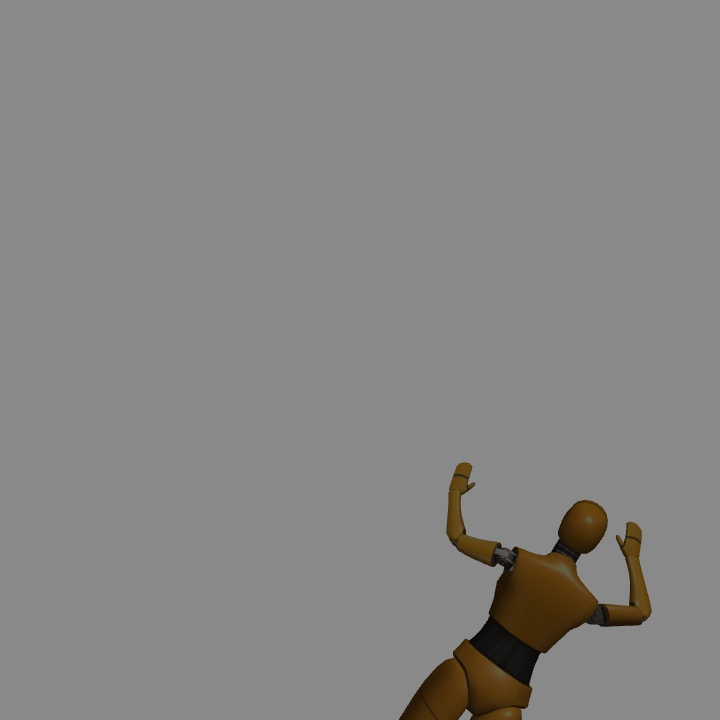victim: (451, 460, 652, 720)
